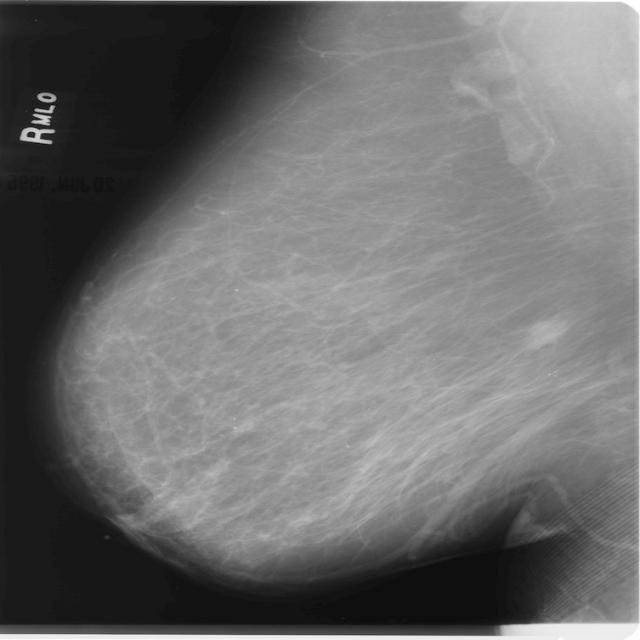tumour: (522, 315, 567, 348)
